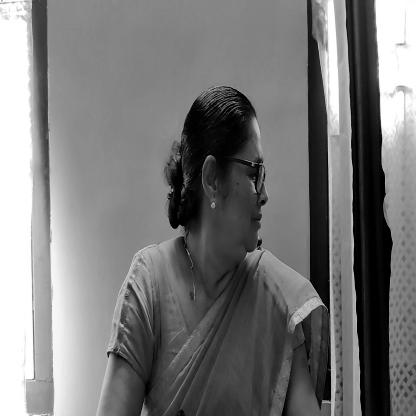Distracted: (163, 91, 269, 266)
